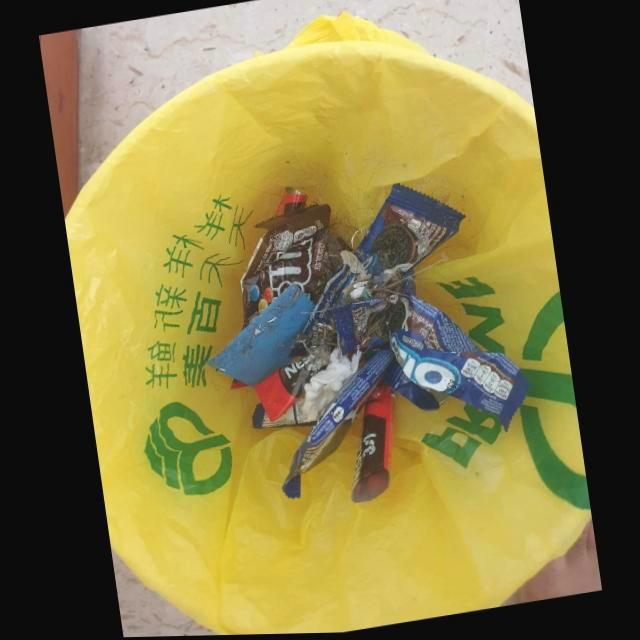food_wrapper: (332, 265, 530, 434), (289, 186, 466, 359), (282, 345, 398, 502), (240, 210, 344, 327), (251, 400, 317, 430)
paper: (302, 348, 361, 423)
plastic_sachet: (350, 383, 395, 505), (253, 357, 326, 423)
